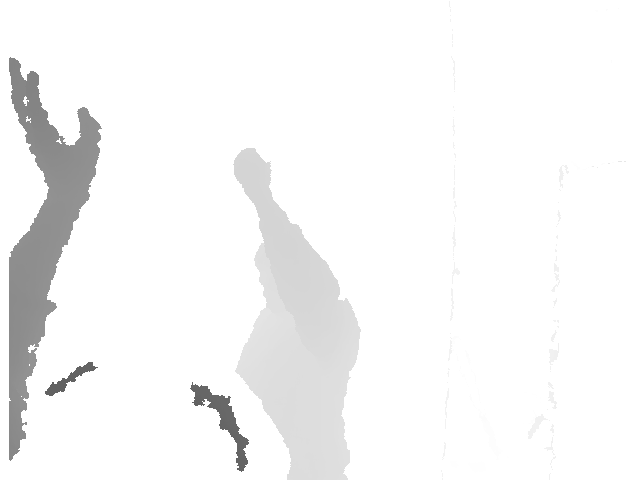hand: (7, 57, 100, 197), (233, 148, 271, 200)
head: (253, 239, 301, 313)
person: (232, 148, 362, 480), (6, 57, 100, 461)
